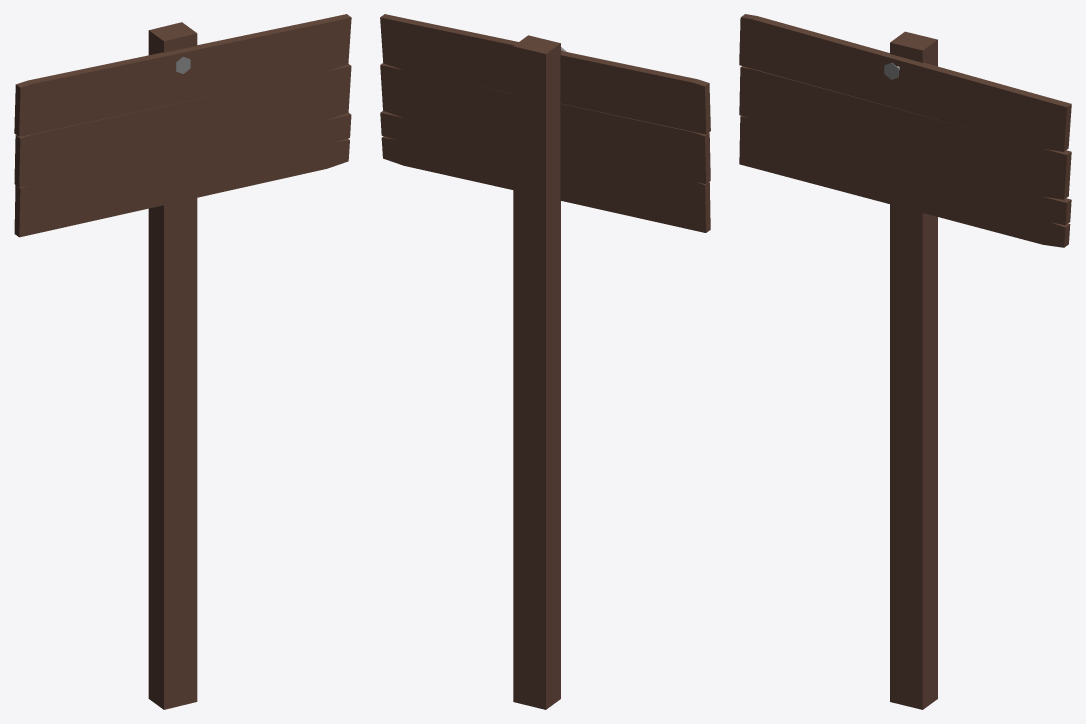
Rendered from Placa_de_madeira.gltf.
The picture shows the model from 3 angles, left to right: view 1: azimuth 30°, elevation 25°; view 2: azimuth 150°, elevation 25°; view 3: azimuth 330°, elevation 25°; orthographic projection.
Parts seen in each view (by area): view 1: Cilindro; view 2: Cilindro; view 3: Cilindro.
Boxes of the visible parts, x1,y1,x2,y2 form: Cilindro: (14,14,351,709); Cilindro: (380,14,710,709); Cilindro: (739,14,1071,709).
Bounding box in the file's own units: 1.24 × 2.38 × 0.1566.
